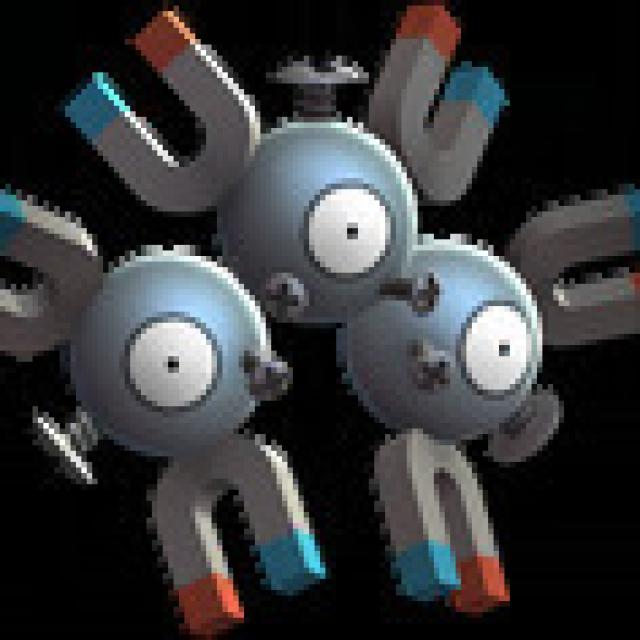Magneton: (24, 28, 592, 555)
